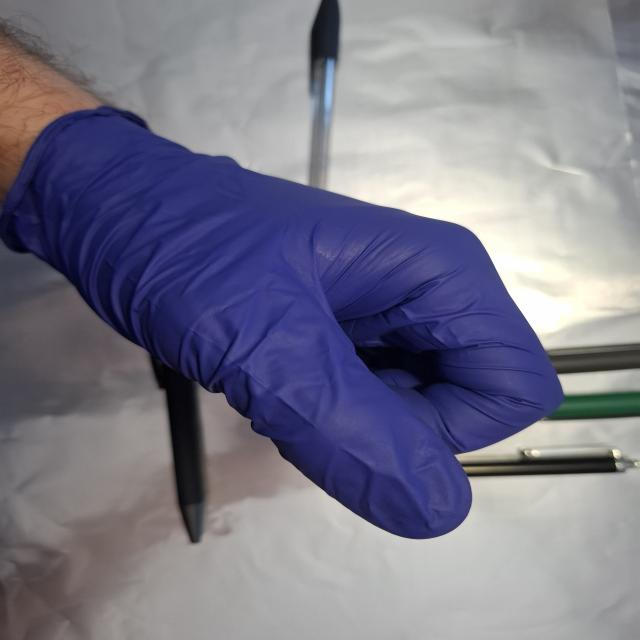glove_on: (7, 107, 570, 545)
